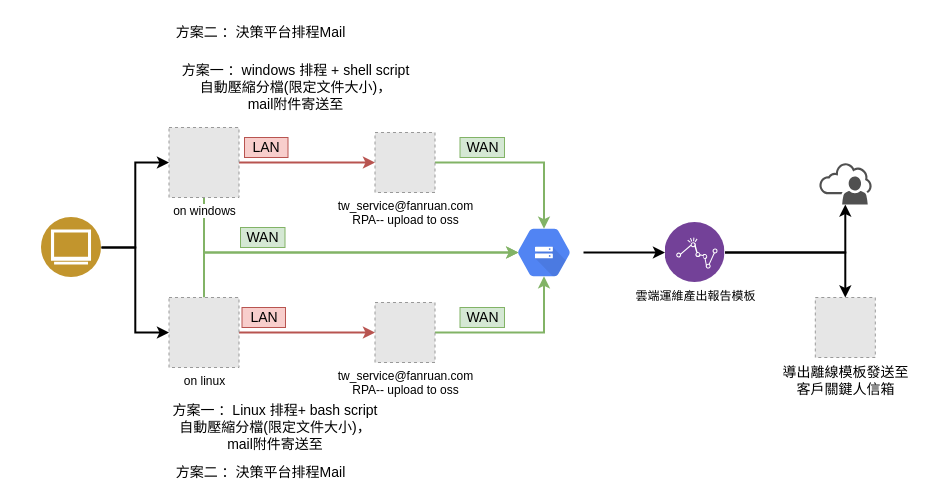
Image size: 925x504. Some labels were removed from this diagram. Grey dashed boxes stand in for pictures. Here are the shapes that lost their labels. From the top down, the centre of each, then its label:
At pixel 844 183: "線上預覽模板結果".
At pixel 71 247: "FR, FBI Web Server".
At pixel 543 252: "OSS".
